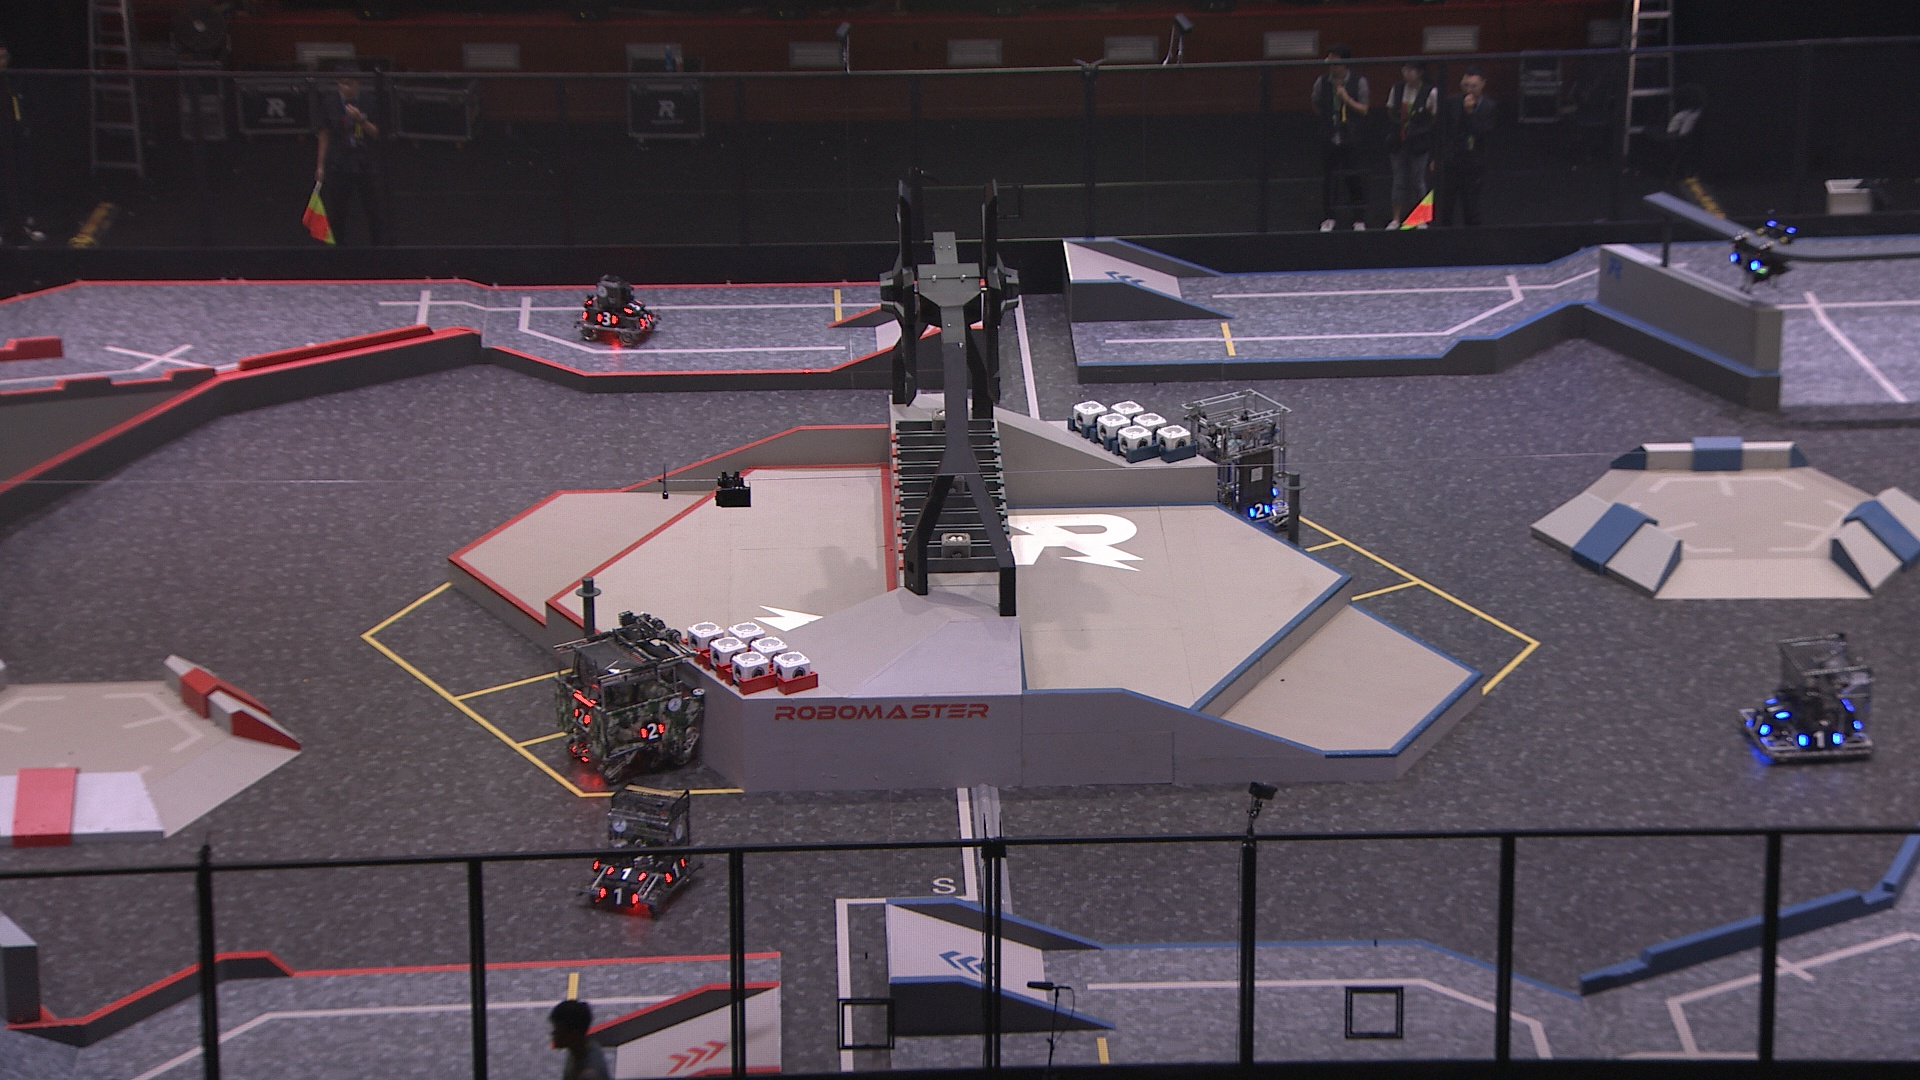armor: (595, 885, 646, 913), (1760, 692, 1795, 727), (603, 858, 647, 884), (659, 853, 688, 887), (1797, 727, 1844, 746), (1746, 709, 1774, 742), (1727, 247, 1762, 273), (568, 703, 593, 728), (593, 306, 618, 330), (638, 721, 666, 742), (1247, 498, 1273, 520), (637, 311, 657, 332), (622, 295, 645, 314)
car: (549, 632, 703, 785), (1731, 633, 1880, 765), (1178, 389, 1295, 531), (580, 789, 708, 915), (575, 273, 661, 347)
watcher: (1727, 204, 1797, 295)
